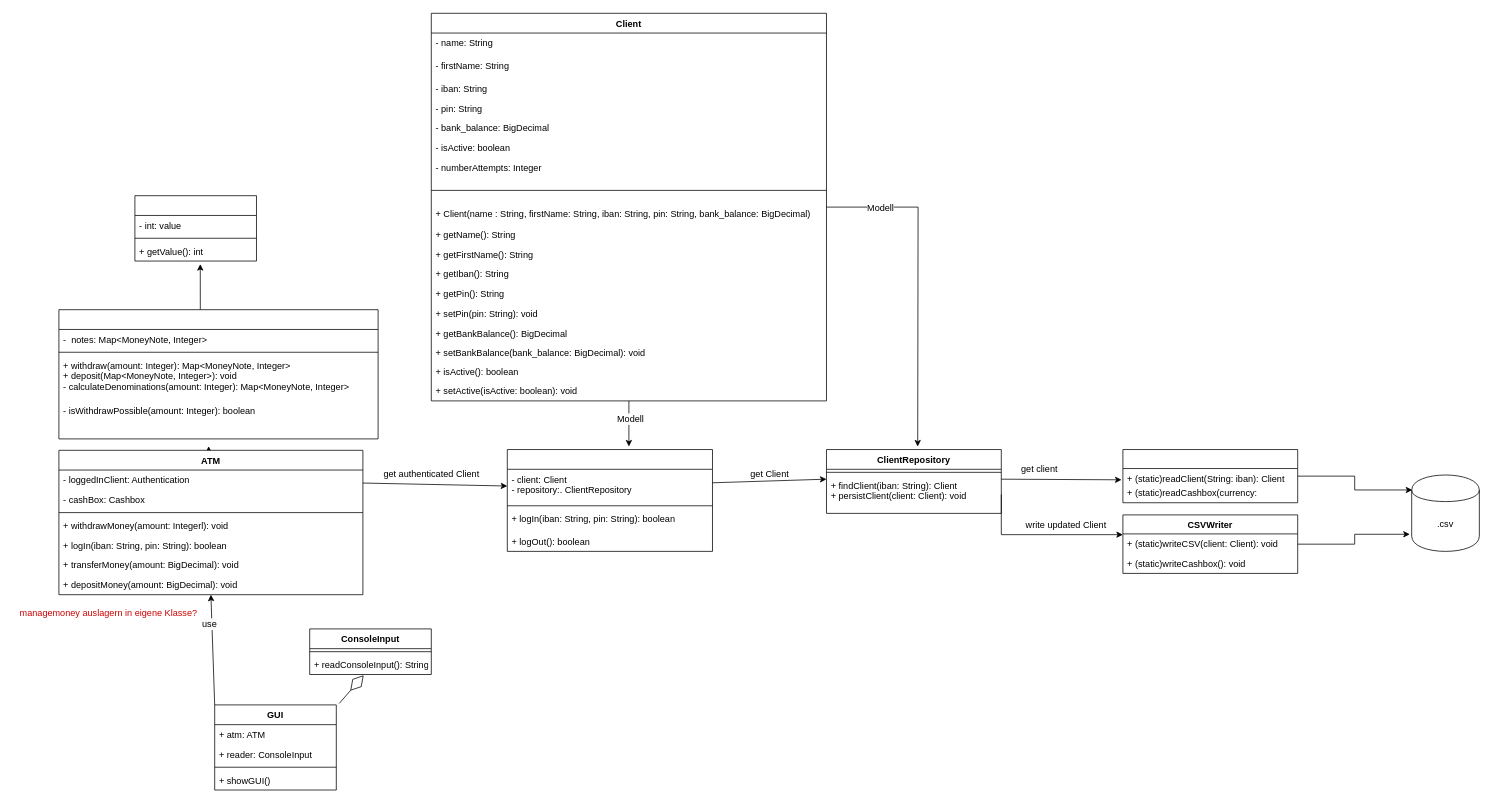
Some shapes in this 1493 by 806 pixel diagram are drawn without their labels. Here are the shapes that lost their labels. From the top down, the box of each, then its label:
(134, 195, 256, 261): MoneyNote
(58, 309, 378, 439): Cashbox
(1122, 449, 1298, 503): CSVReader
(507, 449, 712, 551): Authentication
